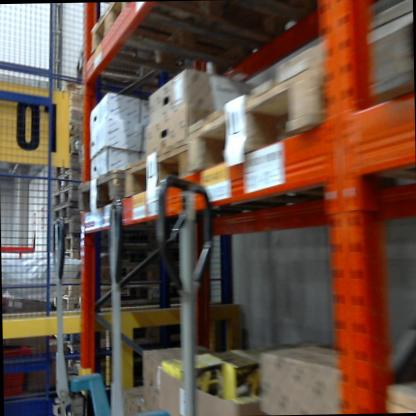pallet: (177, 43, 370, 214), (115, 135, 289, 242), (80, 0, 299, 75), (345, 4, 413, 188), (74, 164, 142, 245), (45, 290, 170, 318), (62, 279, 166, 298), (62, 263, 170, 281), (50, 150, 87, 176), (48, 183, 81, 210), (51, 169, 84, 192), (60, 88, 90, 112), (56, 247, 88, 268), (65, 121, 93, 141), (47, 203, 82, 219), (52, 218, 83, 234), (53, 233, 87, 247), (61, 108, 92, 121), (65, 141, 87, 150)
pallet_truck: (151, 161, 224, 413), (43, 192, 114, 416), (97, 181, 159, 414)
small_load_carrier: (4, 337, 47, 403)
